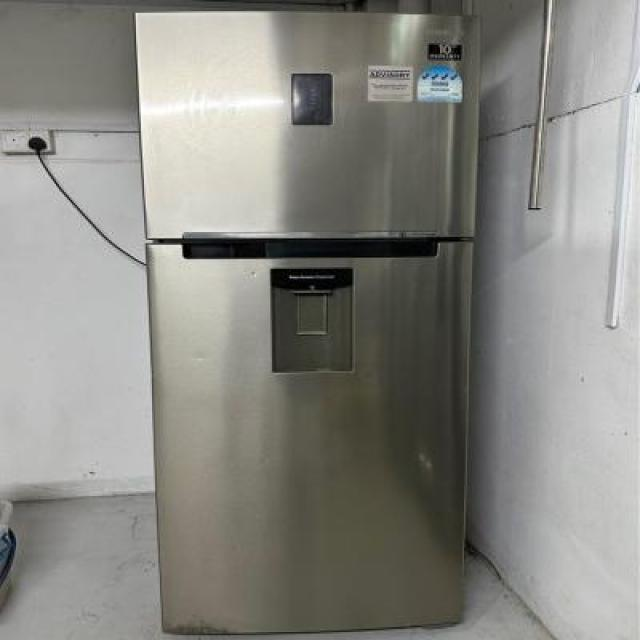refrigerator: (133, 10, 480, 633)
